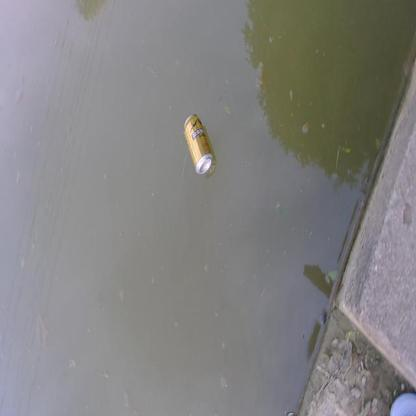can: (184, 114, 214, 174)
